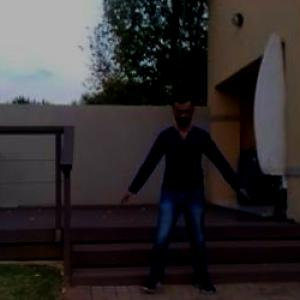land: (130, 94, 258, 298)
